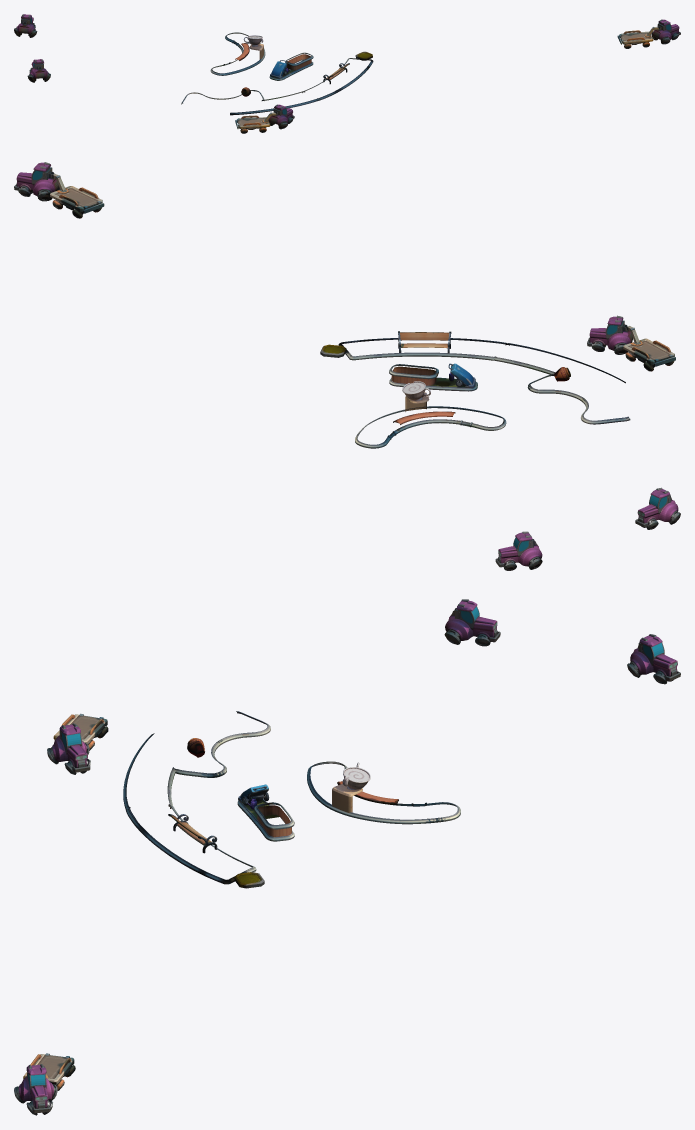
File: pref_sm_garden_props_vray_010_lv2.fbx
The picture shows the model from 3 angles, top to bottom: view 1: azimuth 30°, elevation 25°; view 2: azimuth 150°, elevation 25°; view 3: azimuth 270°, elevation 25°; orthographic projection. The views are drawn at different scales.
Parts seen in each view (by area): view 1: pref_sm_garden_props_vray_010_lv2; view 2: pref_sm_garden_props_vray_010_lv2; view 3: pref_sm_garden_props_vray_010_lv2.
Boxes of the visible parts, x1,y1,x2,y2 form: pref_sm_garden_props_vray_010_lv2: (14, 14, 680, 133); pref_sm_garden_props_vray_010_lv2: (14, 162, 680, 570); pref_sm_garden_props_vray_010_lv2: (14, 599, 680, 1115).
Bounding box in the file's own units: 86.85 × 3.53 × 50.24.
